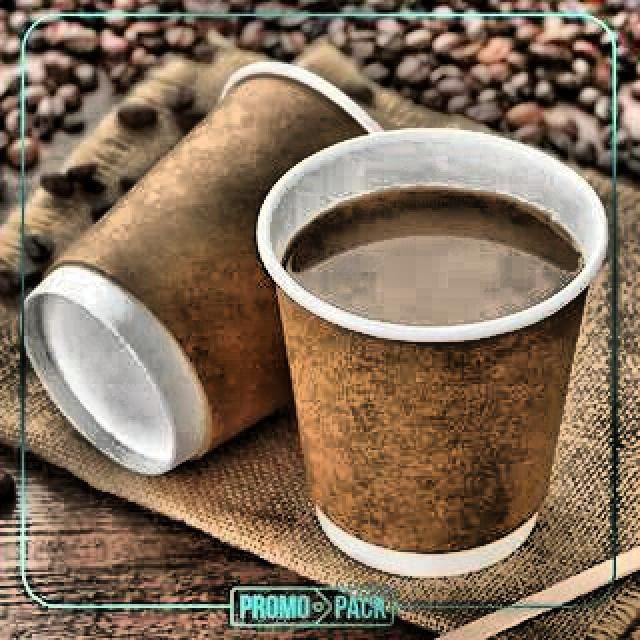Cup: (48, 58, 462, 483), (263, 119, 623, 570)
